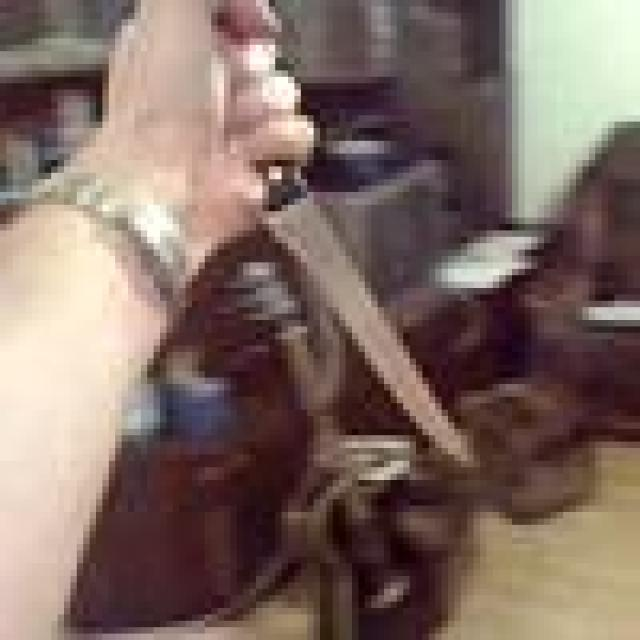faca: (96, 0, 493, 474)
